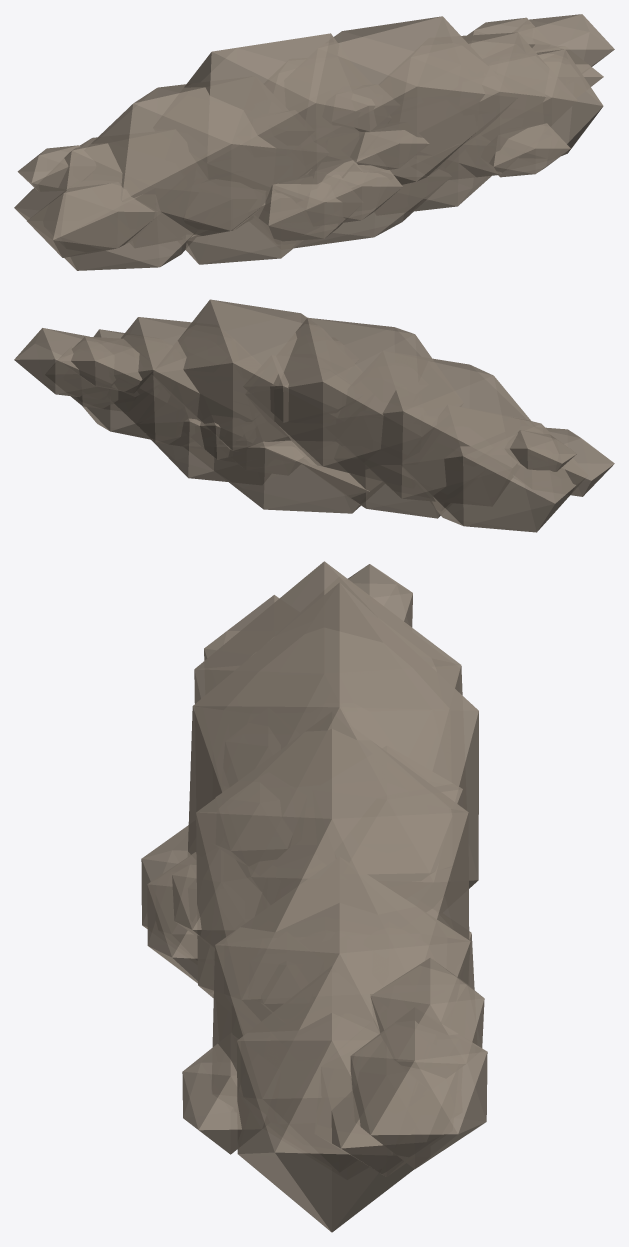
The model's file is nubeSeca.fbx.
The picture shows the model from 3 angles, top to bottom: view 1: azimuth 30°, elevation 25°; view 2: azimuth 150°, elevation 25°; view 3: azimuth 270°, elevation 25°; orthographic projection. The views are drawn at different scales.
Parts seen in each view (by area): view 1: Nube_Seca; view 2: Nube_Seca; view 3: Nube_Seca.
Boxes of the visible parts, x1=… form: Nube_Seca: x1=14, y1=14, x2=614, y2=270; Nube_Seca: x1=14, y1=299, x2=614, y2=532; Nube_Seca: x1=141, y1=561, x2=487, y2=1232.
Bounding box in the file's own units: 824 × 284 × 227.
